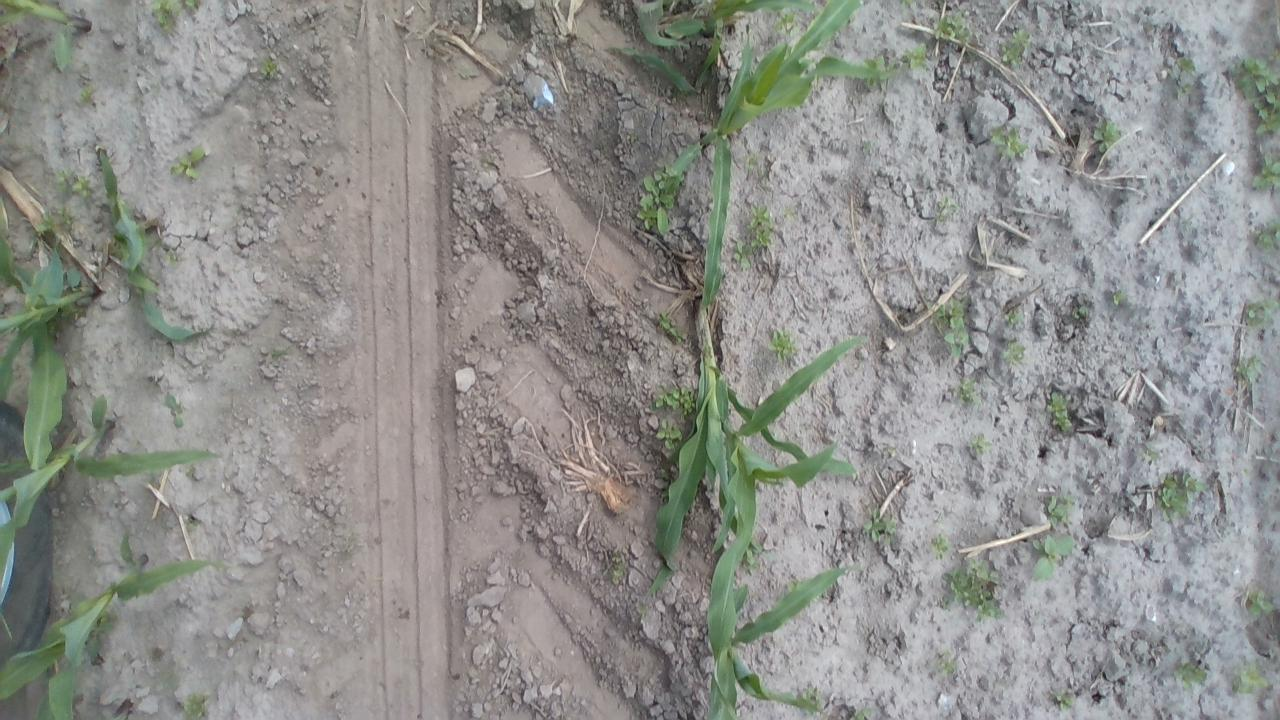Maize: (670, 1, 899, 306), (644, 301, 865, 597), (0, 395, 221, 590), (1, 528, 221, 716), (702, 512, 864, 720), (88, 144, 216, 342), (594, 0, 826, 97), (0, 234, 89, 471), (1, 1, 90, 72)
Weeds: (1232, 51, 1280, 192), (927, 290, 978, 364), (940, 562, 1006, 616), (634, 164, 680, 239), (728, 203, 778, 268), (1157, 470, 1208, 518), (1032, 532, 1074, 580), (168, 144, 211, 182), (1044, 388, 1078, 436), (148, 1, 197, 33), (933, 12, 975, 46), (988, 124, 1026, 160), (655, 384, 698, 414), (998, 30, 1034, 64), (1236, 585, 1274, 617), (33, 209, 78, 234), (162, 390, 190, 430), (1090, 116, 1123, 149), (996, 334, 1030, 366), (604, 548, 631, 588), (768, 329, 797, 365), (1102, 273, 1130, 310), (180, 689, 214, 719), (54, 167, 86, 198), (866, 513, 898, 544), (1172, 656, 1210, 682), (1242, 297, 1274, 327), (1251, 217, 1280, 250), (1232, 354, 1265, 382), (654, 420, 684, 450), (248, 56, 280, 84), (934, 647, 962, 678), (1230, 670, 1270, 691), (656, 311, 686, 339), (902, 42, 930, 70), (1046, 492, 1074, 520), (962, 432, 992, 457), (1070, 298, 1095, 326), (769, 9, 803, 29), (1049, 684, 1075, 709), (950, 379, 974, 404), (1004, 310, 1026, 332), (938, 197, 958, 221), (930, 533, 950, 555), (741, 150, 760, 169)
